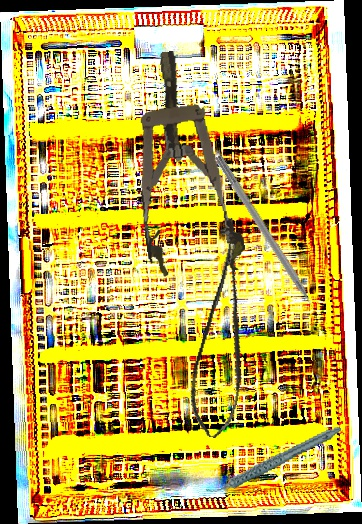Handpiece: (198, 425, 349, 495)
Micro Scissor: (178, 237, 275, 442)
Pusher: (212, 154, 327, 327)
Speculum: (120, 44, 248, 283)
